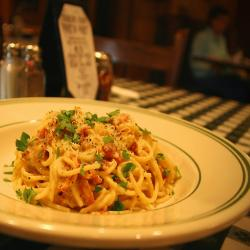bolonese_pasta: (10, 107, 194, 220)
